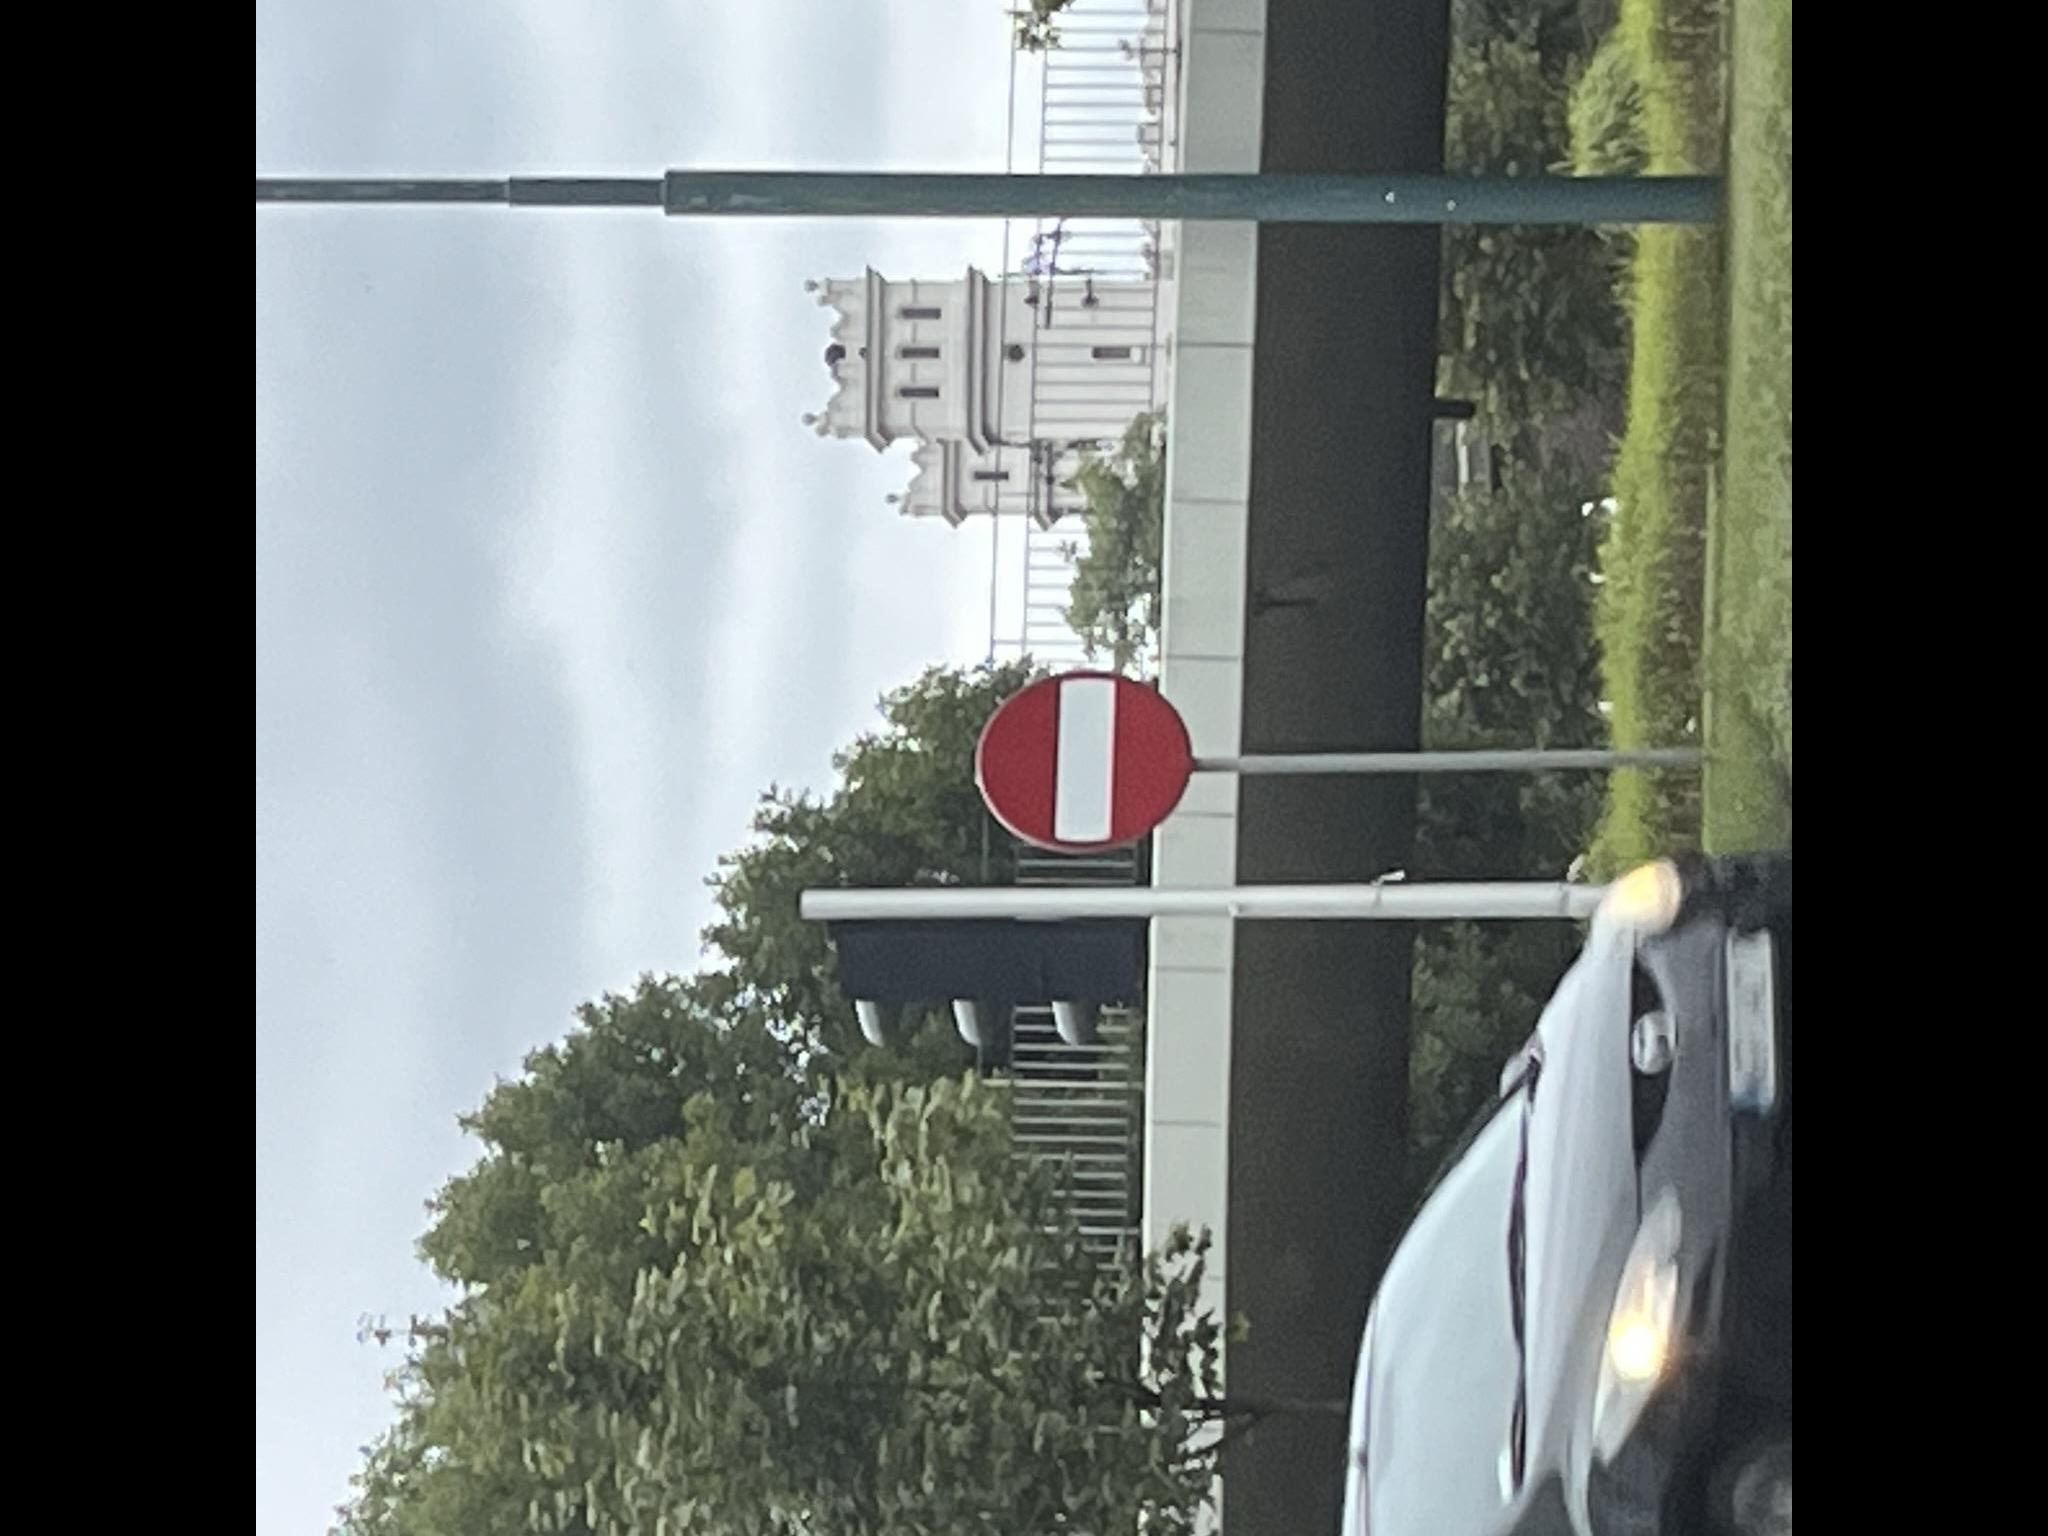prohibitory: (971, 668, 1198, 854)
